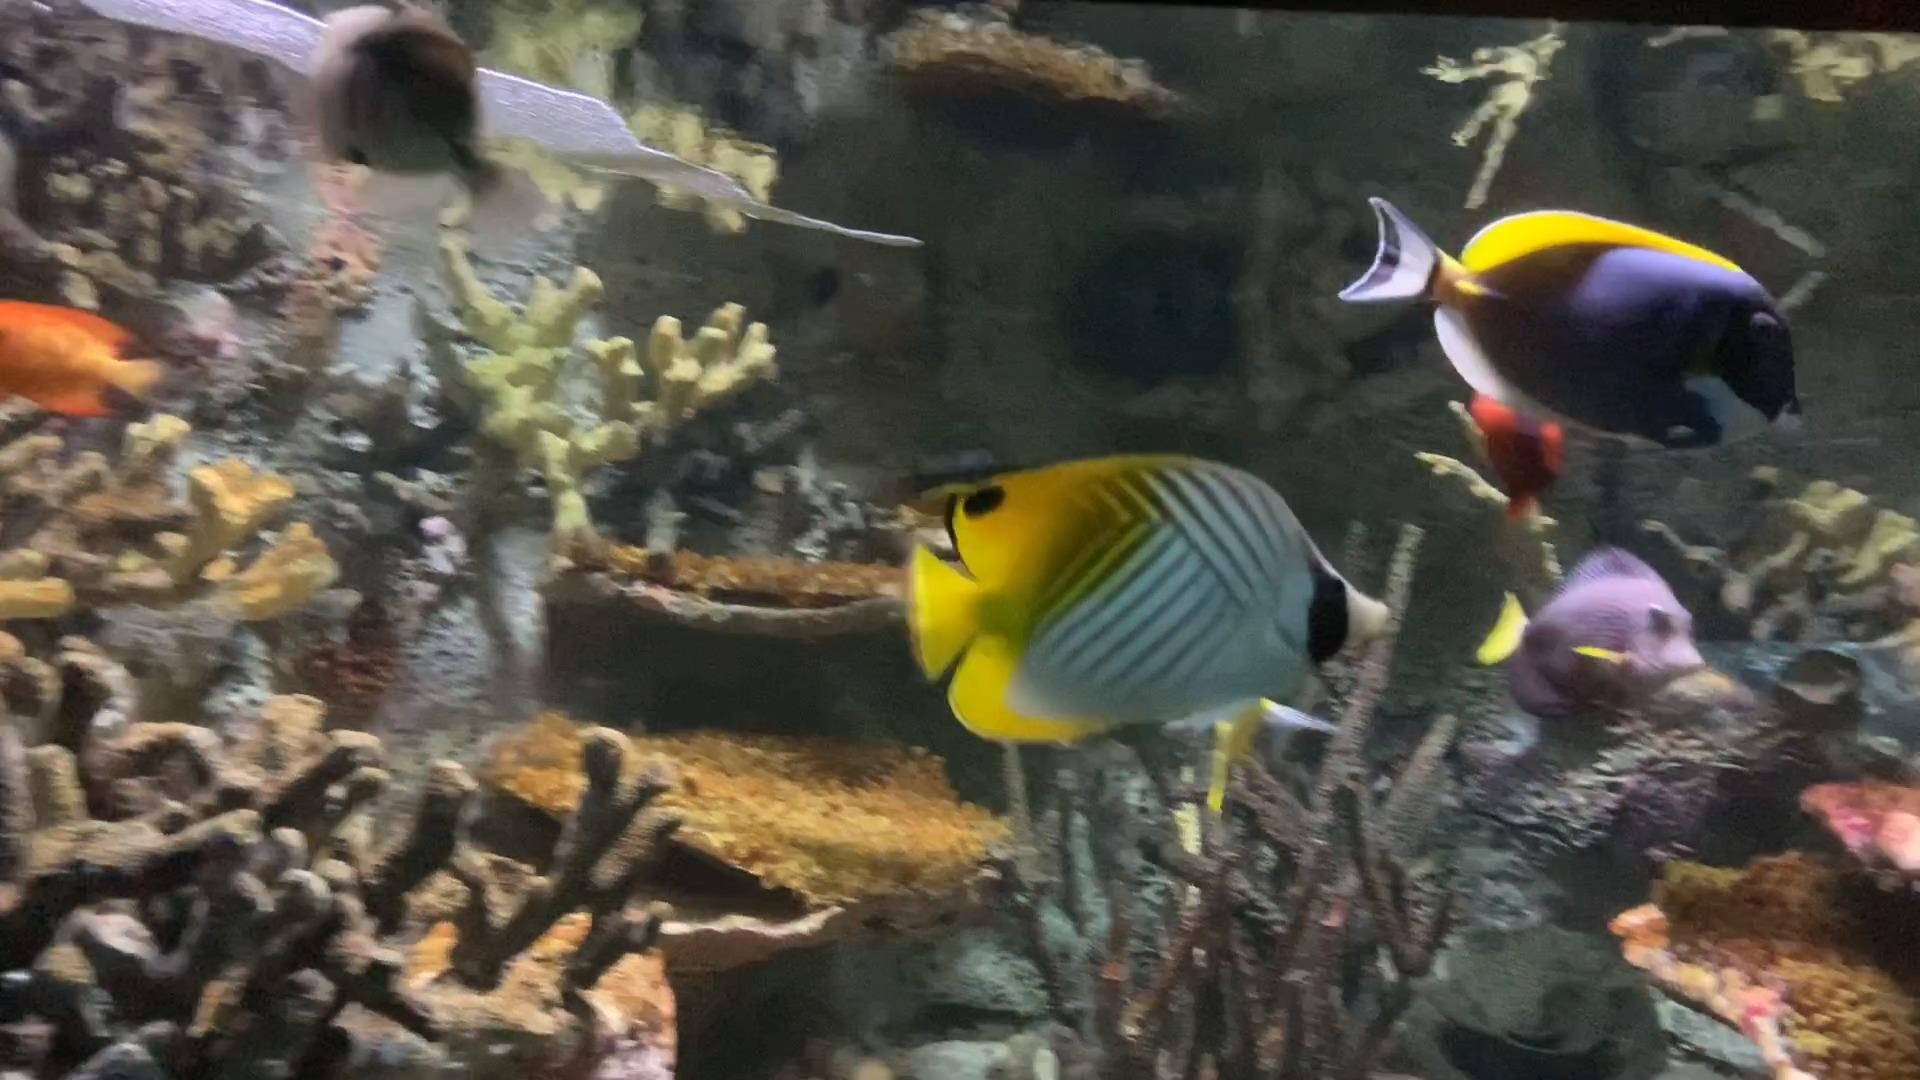fish: (905, 447, 1391, 742), (1336, 189, 1797, 452), (1462, 538, 1709, 731), (0, 294, 177, 429)
